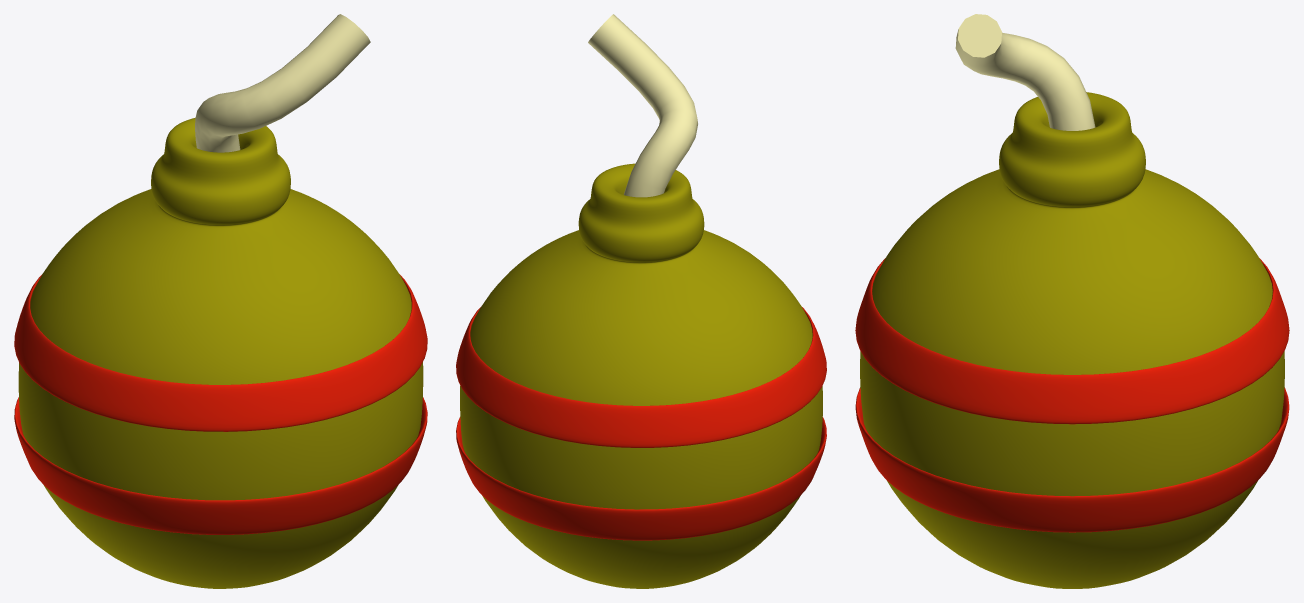
File: bomb.fbx
The picture shows the model from 3 angles, left to right: view 1: azimuth 30°, elevation 25°; view 2: azimuth 150°, elevation 25°; view 3: azimuth 270°, elevation 25°; orthographic projection. The views are drawn at different scales.
Visible parts, largest first — view 1: Sphere, Sphere.001, BezierCurve; view 2: Sphere, Sphere.001, BezierCurve; view 3: Sphere, Sphere.001, BezierCurve.
Boxes of the visible parts, bbox=[...] form: Sphere: bbox=[18, 117, 423, 588]; Sphere.001: bbox=[14, 274, 427, 534]; BezierCurve: bbox=[195, 14, 370, 152]; Sphere: bbox=[460, 163, 822, 588]; Sphere.001: bbox=[456, 307, 826, 540]; BezierCurve: bbox=[588, 14, 697, 197]; Sphere: bbox=[860, 92, 1284, 588]; Sphere.001: bbox=[855, 258, 1289, 532]; BezierCurve: bbox=[955, 14, 1095, 130].
Size of the model in its own units: 192 by 291 by 192.
